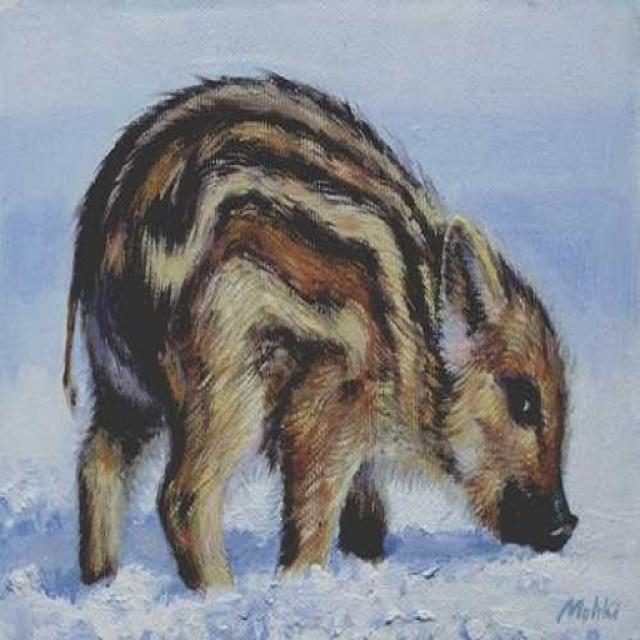pig: (54, 27, 577, 640)
